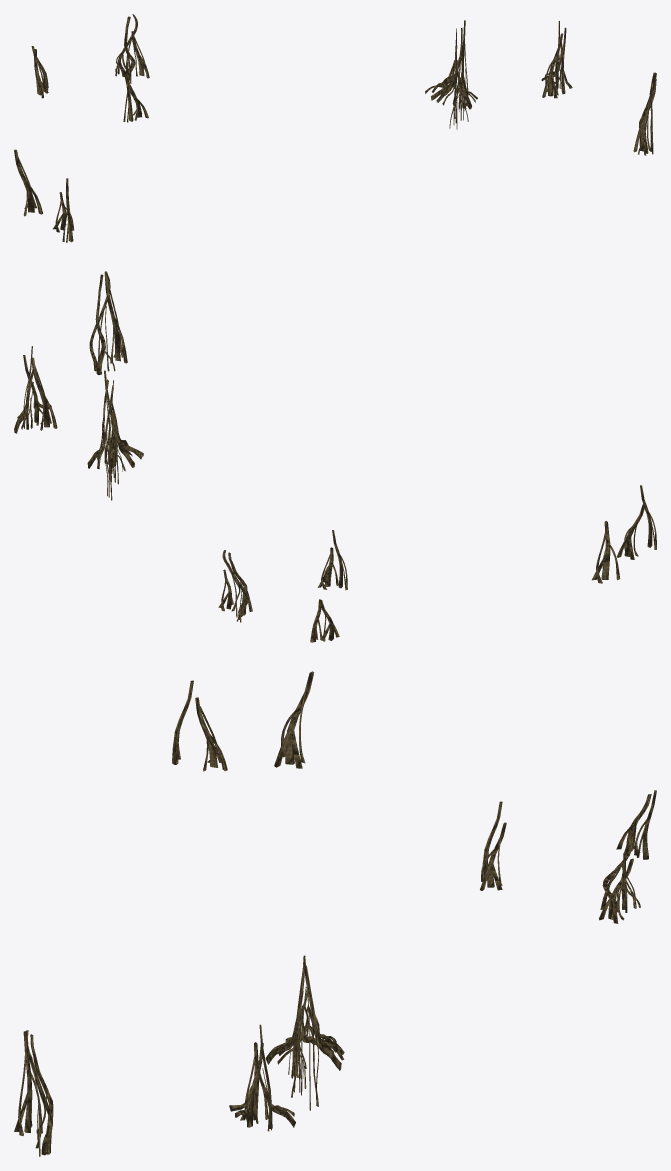
The picture shows the model from 3 angles, top to bottom: view 1: azimuth 30°, elevation 25°; view 2: azimuth 150°, elevation 25°; view 3: azimuth 270°, elevation 25°; orthographic projection. The views are drawn at different scales.
Visible parts, largest first — view 1: mesh0; view 2: mesh0; view 3: mesh0.
Boxes of the visible parts, x1,y1,x2,y2 form: mesh0: (14, 14, 656, 242); mesh0: (14, 271, 656, 642); mesh0: (14, 671, 656, 1156).
Size of the model in its own units: 1265 by 240 by 884.
1 material, 1 textured.
